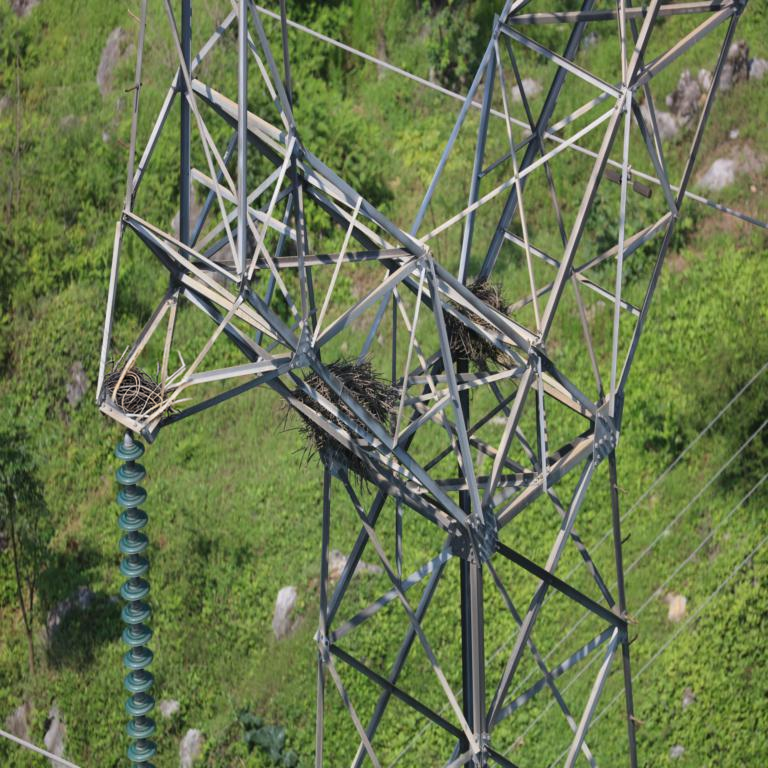nest: (301, 360, 396, 443), (441, 286, 512, 364), (99, 369, 167, 422)
